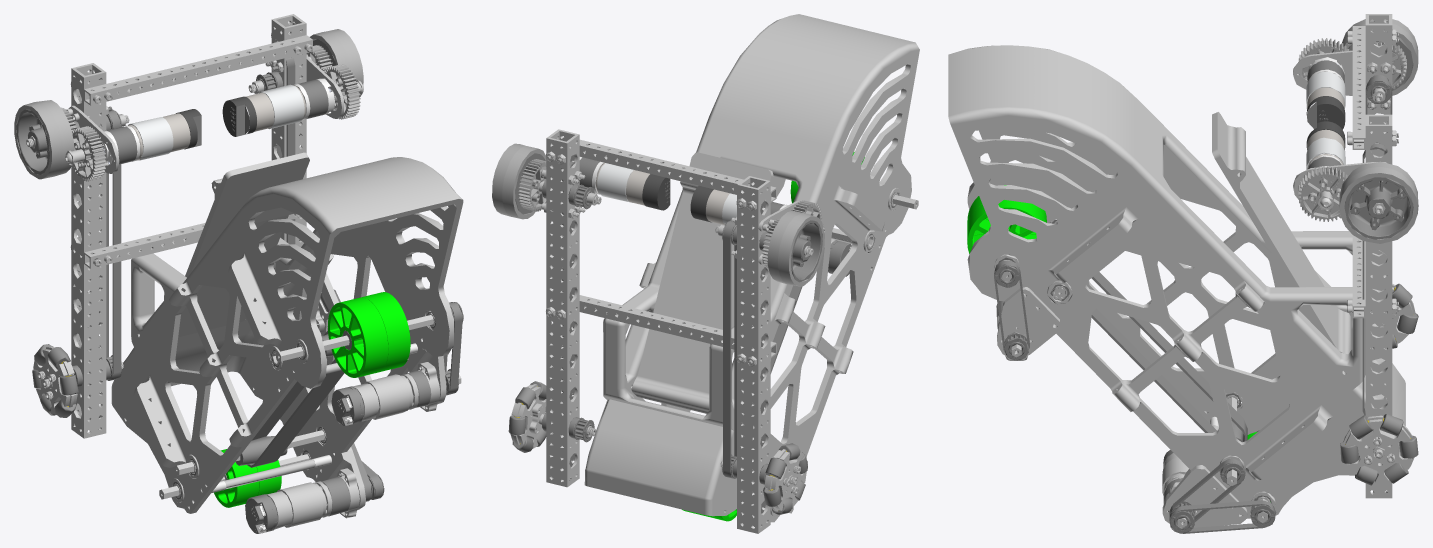
Rendered from prototype-999.glb.
3 renders of one model, left to right at view 1: azimuth 30°, elevation 25°; view 2: azimuth 150°, elevation 25°; view 3: azimuth 270°, elevation 25°, orthographic. The views are drawn at different scales.
Visible parts, largest first — view 1: Body1, Body1:7, Body1:12, Body1:13, Body1:140, Body1:138, Body1:2; view 2: Body1, Body1:7, Body1:13, Body1:140, Body1:97; view 3: Body1, Body1:7, Body1:13, Body1:140, Body1:12.
Boxes of the visible parts, bbox=[...] form: Body1: bbox=[26, 14, 463, 529]; Body1:7: bbox=[16, 39, 463, 533]; Body1:12: bbox=[214, 292, 410, 507]; Body1:13: bbox=[14, 29, 363, 480]; Body1:140: bbox=[128, 84, 318, 324]; Body1:138: bbox=[102, 78, 334, 163]; Body1:2: bbox=[211, 343, 417, 532]; Body1: bbox=[510, 14, 919, 533]; Body1:7: bbox=[508, 153, 851, 514]; Body1:13: bbox=[492, 143, 824, 286]; Body1:140: bbox=[537, 163, 736, 432]; Body1:97: bbox=[542, 180, 768, 484]; Body1: bbox=[948, 14, 1415, 529]; Body1:7: bbox=[994, 37, 1418, 533]; Body1:13: bbox=[1008, 19, 1418, 336]; Body1:140: bbox=[1306, 72, 1345, 169]; Body1:12: bbox=[967, 185, 1257, 439].
Bounding box in the file's own units: 36.76 × 45.23 × 45.09.
